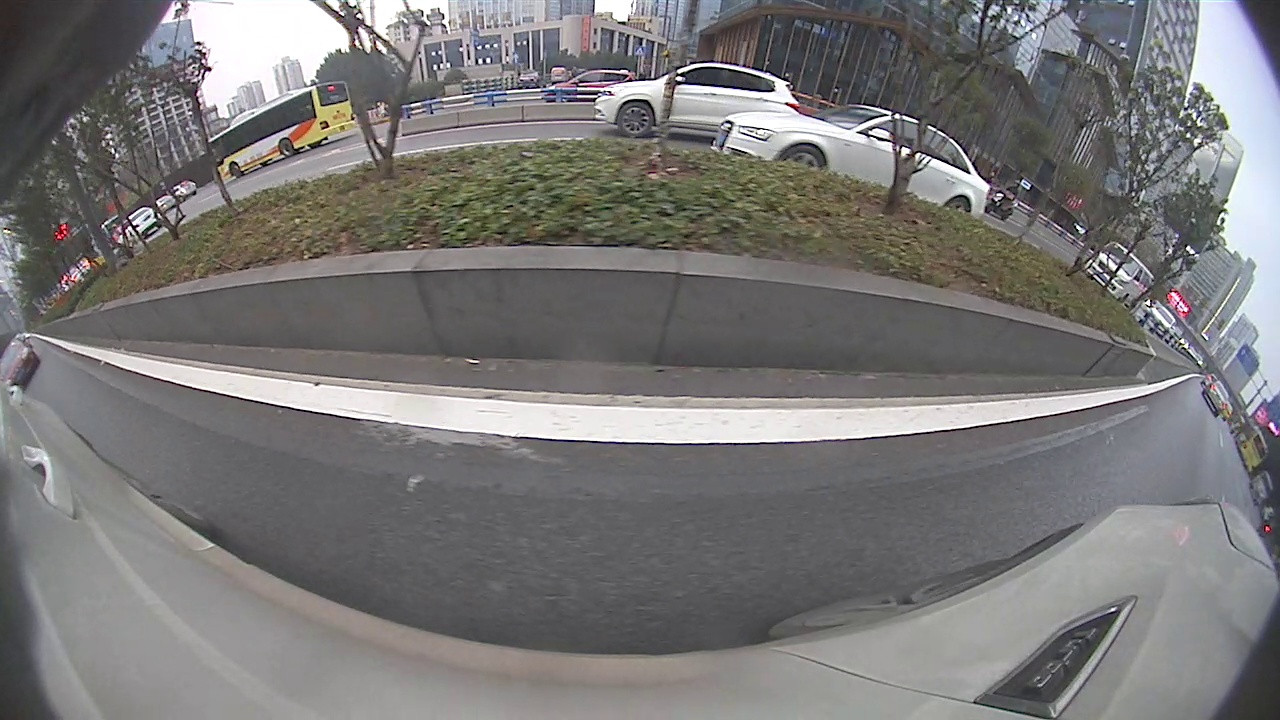car: (711, 102, 993, 219), (592, 62, 806, 141), (1, 338, 42, 386), (1202, 379, 1231, 416)
front: (774, 140, 830, 173), (615, 99, 656, 140), (229, 161, 243, 178)
rear: (943, 194, 976, 217), (279, 137, 297, 159)
